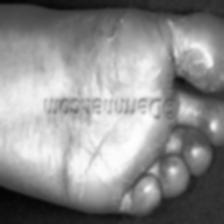Non-Cancerous Skin Condition: (160, 20, 218, 90), (132, 122, 204, 163)
